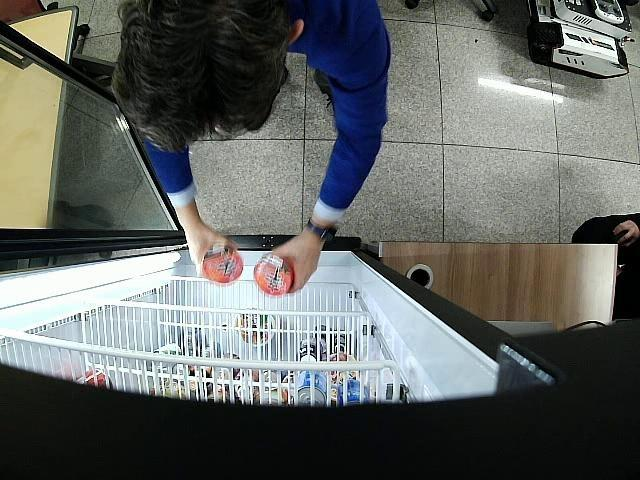02_shinRamen_S: (254, 255, 293, 297), (204, 244, 243, 285)
